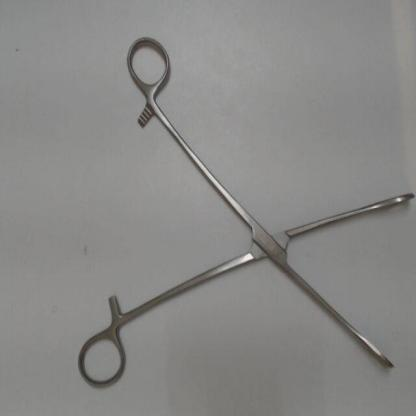Sponge Forceps: (75, 32, 414, 387)
